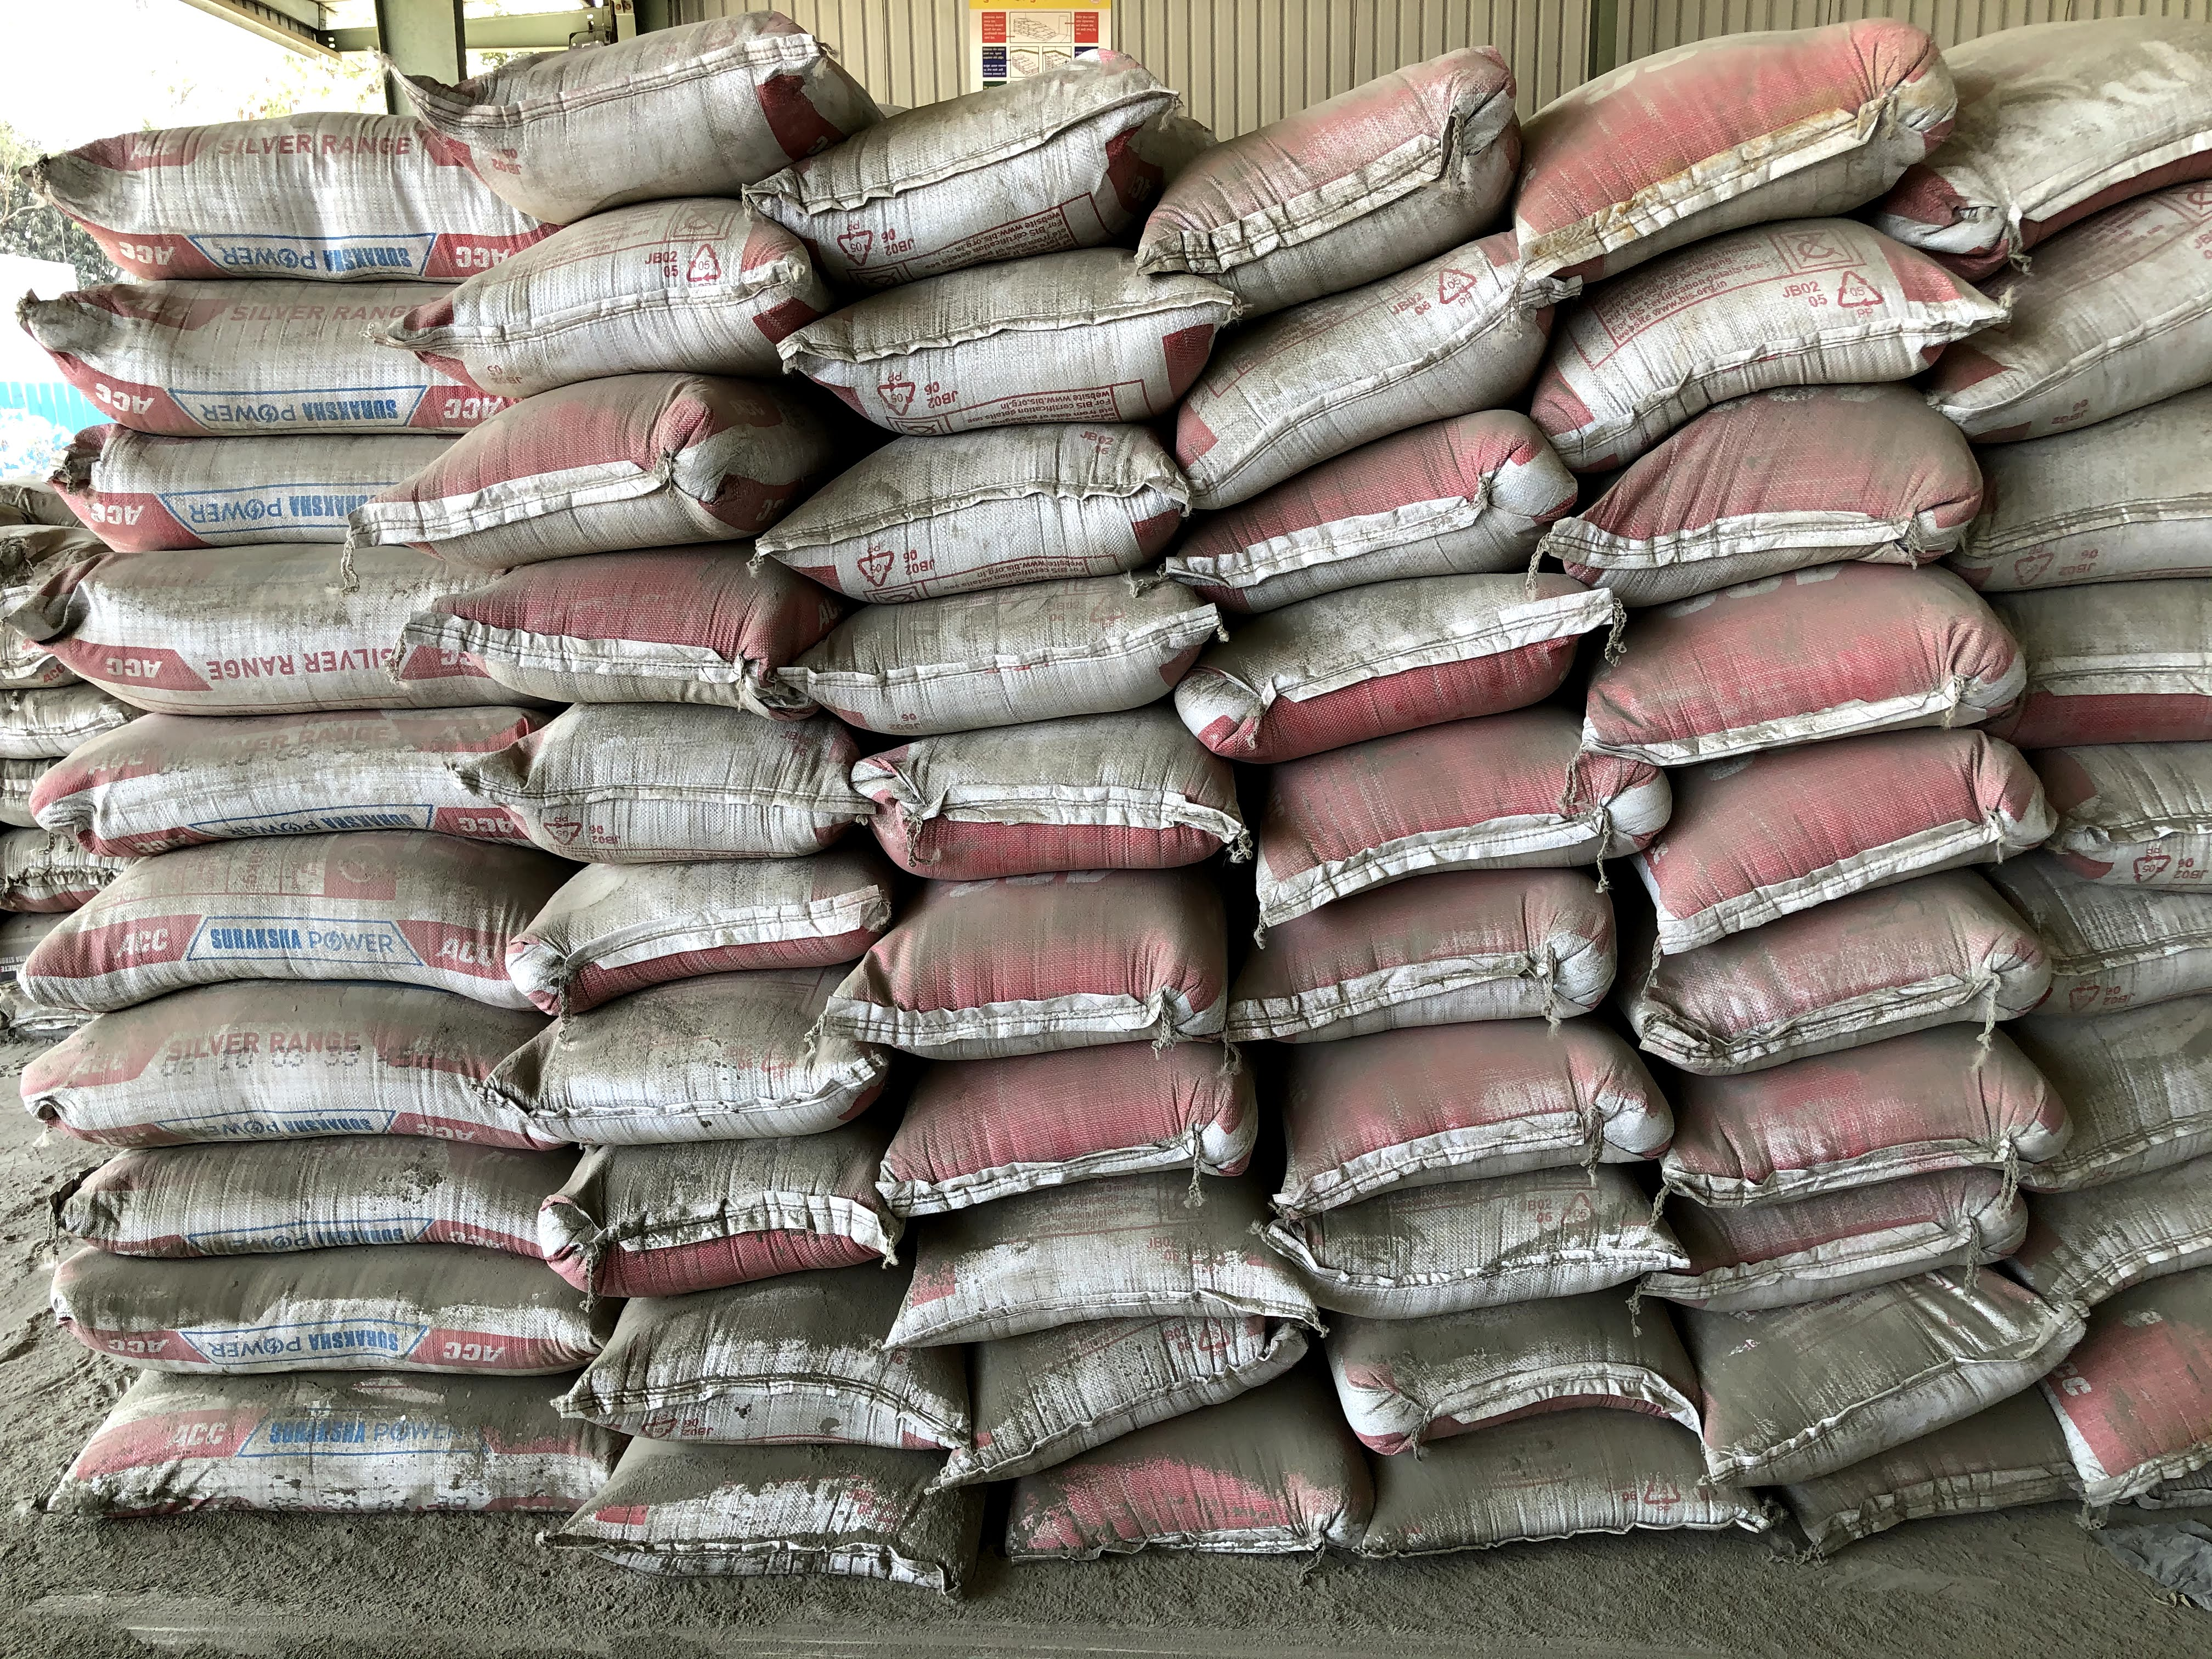cement bag: (1554, 188, 1972, 401), (1146, 265, 1548, 484), (68, 249, 503, 439), (1228, 884, 1604, 1077), (40, 838, 514, 990), (1219, 584, 1592, 774), (1677, 728, 2006, 934), (789, 551, 1153, 735), (63, 1000, 566, 1133), (789, 735, 1223, 889), (469, 44, 841, 221), (880, 1162, 1238, 1344), (56, 1269, 578, 1392), (56, 1392, 594, 1507), (1113, 131, 1548, 265), (1228, 1077, 1662, 1204), (803, 221, 1109, 401), (26, 136, 503, 249), (803, 401, 1153, 551), (16, 598, 470, 713), (456, 387, 732, 575), (589, 990, 860, 1180), (888, 1019, 1238, 1162), (92, 1166, 578, 1269), (611, 1310, 956, 1453), (1611, 606, 2006, 728), (841, 44, 1109, 221), (1681, 1176, 2092, 1291), (1022, 1424, 1334, 1574), (68, 713, 470, 828), (456, 575, 770, 718), (1348, 1204, 1662, 1347), (1146, 484, 1592, 584), (888, 889, 1223, 1019), (469, 221, 732, 387), (1514, 96, 1972, 188), (1219, 774, 1604, 884), (68, 439, 413, 559), (1681, 1077, 2092, 1176), (1581, 408, 1933, 521), (880, 1344, 1334, 1424), (1747, 1314, 2076, 1424), (1423, 1436, 1716, 1558), (1348, 1347, 1716, 1436), (603, 875, 860, 990), (1637, 927, 1940, 1019), (578, 1476, 937, 1553), (589, 1180, 880, 1269), (561, 751, 833, 843), (75, 556, 103, 619)
